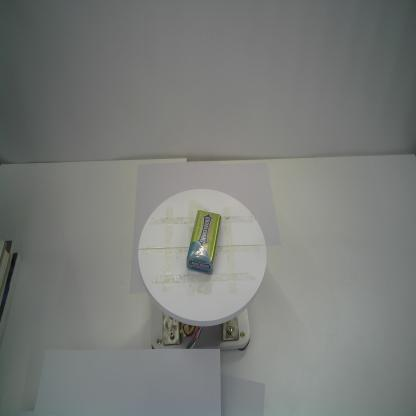Gum: (183, 207, 222, 278)
